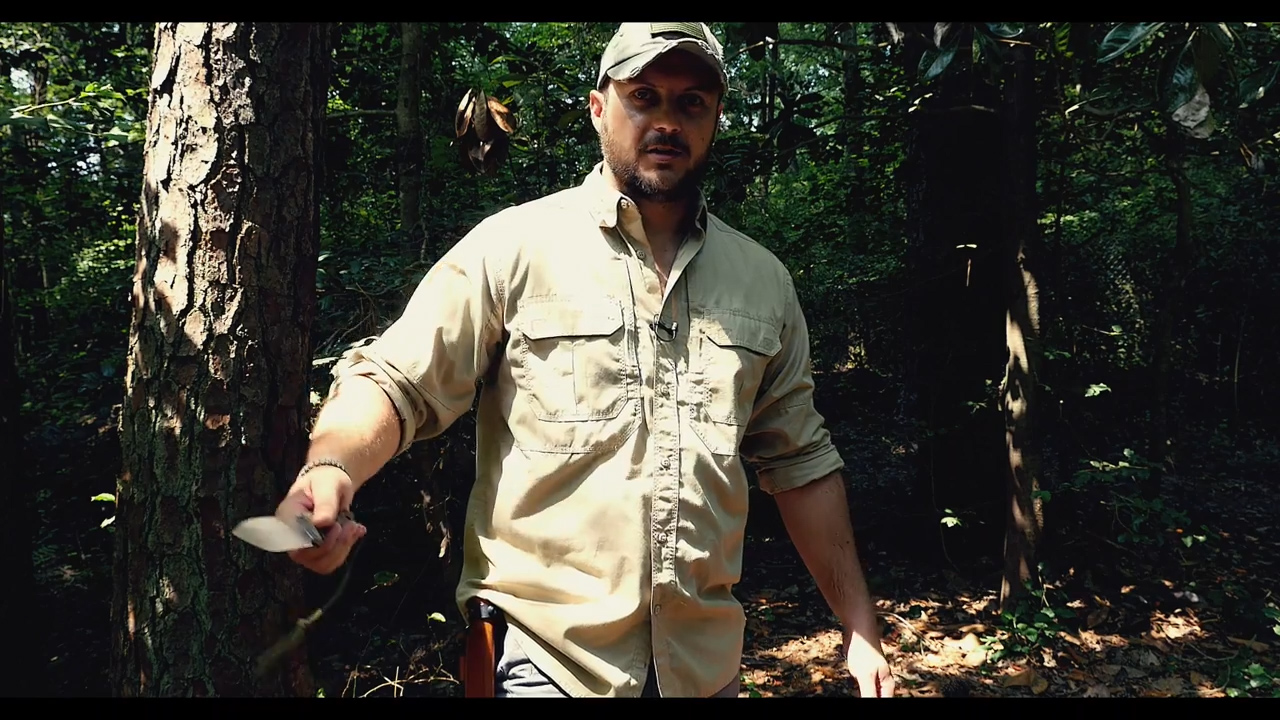knife: (225, 481, 371, 577)
